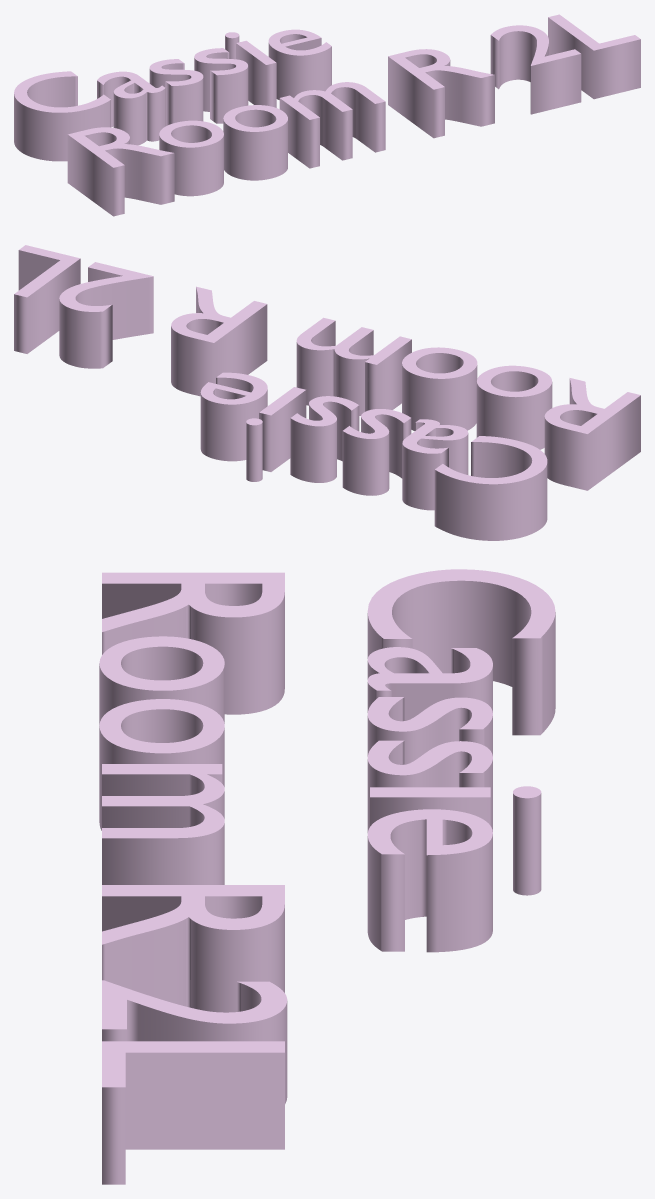
Rendered from Cassie-R 2L.gltf.
3 renders of one model, top to bottom at view 1: azimuth 30°, elevation 25°; view 2: azimuth 150°, elevation 25°; view 3: azimuth 270°, elevation 25°, orthographic. The views are drawn at different scales.
Visible parts, largest first — view 1: Text; view 2: Text; view 3: Text.
Boxes of the visible parts, x1=… form: Text: x1=14, y1=14, x2=640, y2=216; Text: x1=14, y1=245, x2=640, y2=540; Text: x1=99, y1=569, x2=555, y2=1184.
Bounding box in the file's own units: 4.57 × 0.4 × 1.7.
